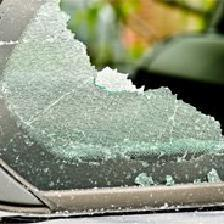broken_part: (21, 3, 149, 108)
